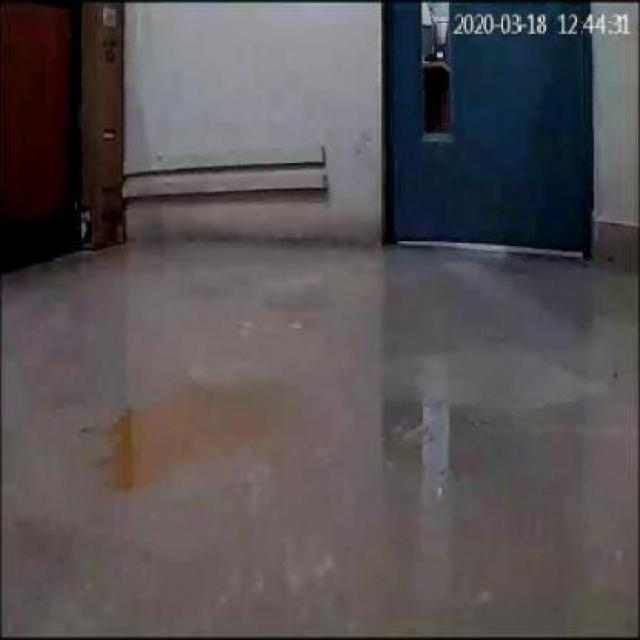spillage: (110, 398, 235, 491)
